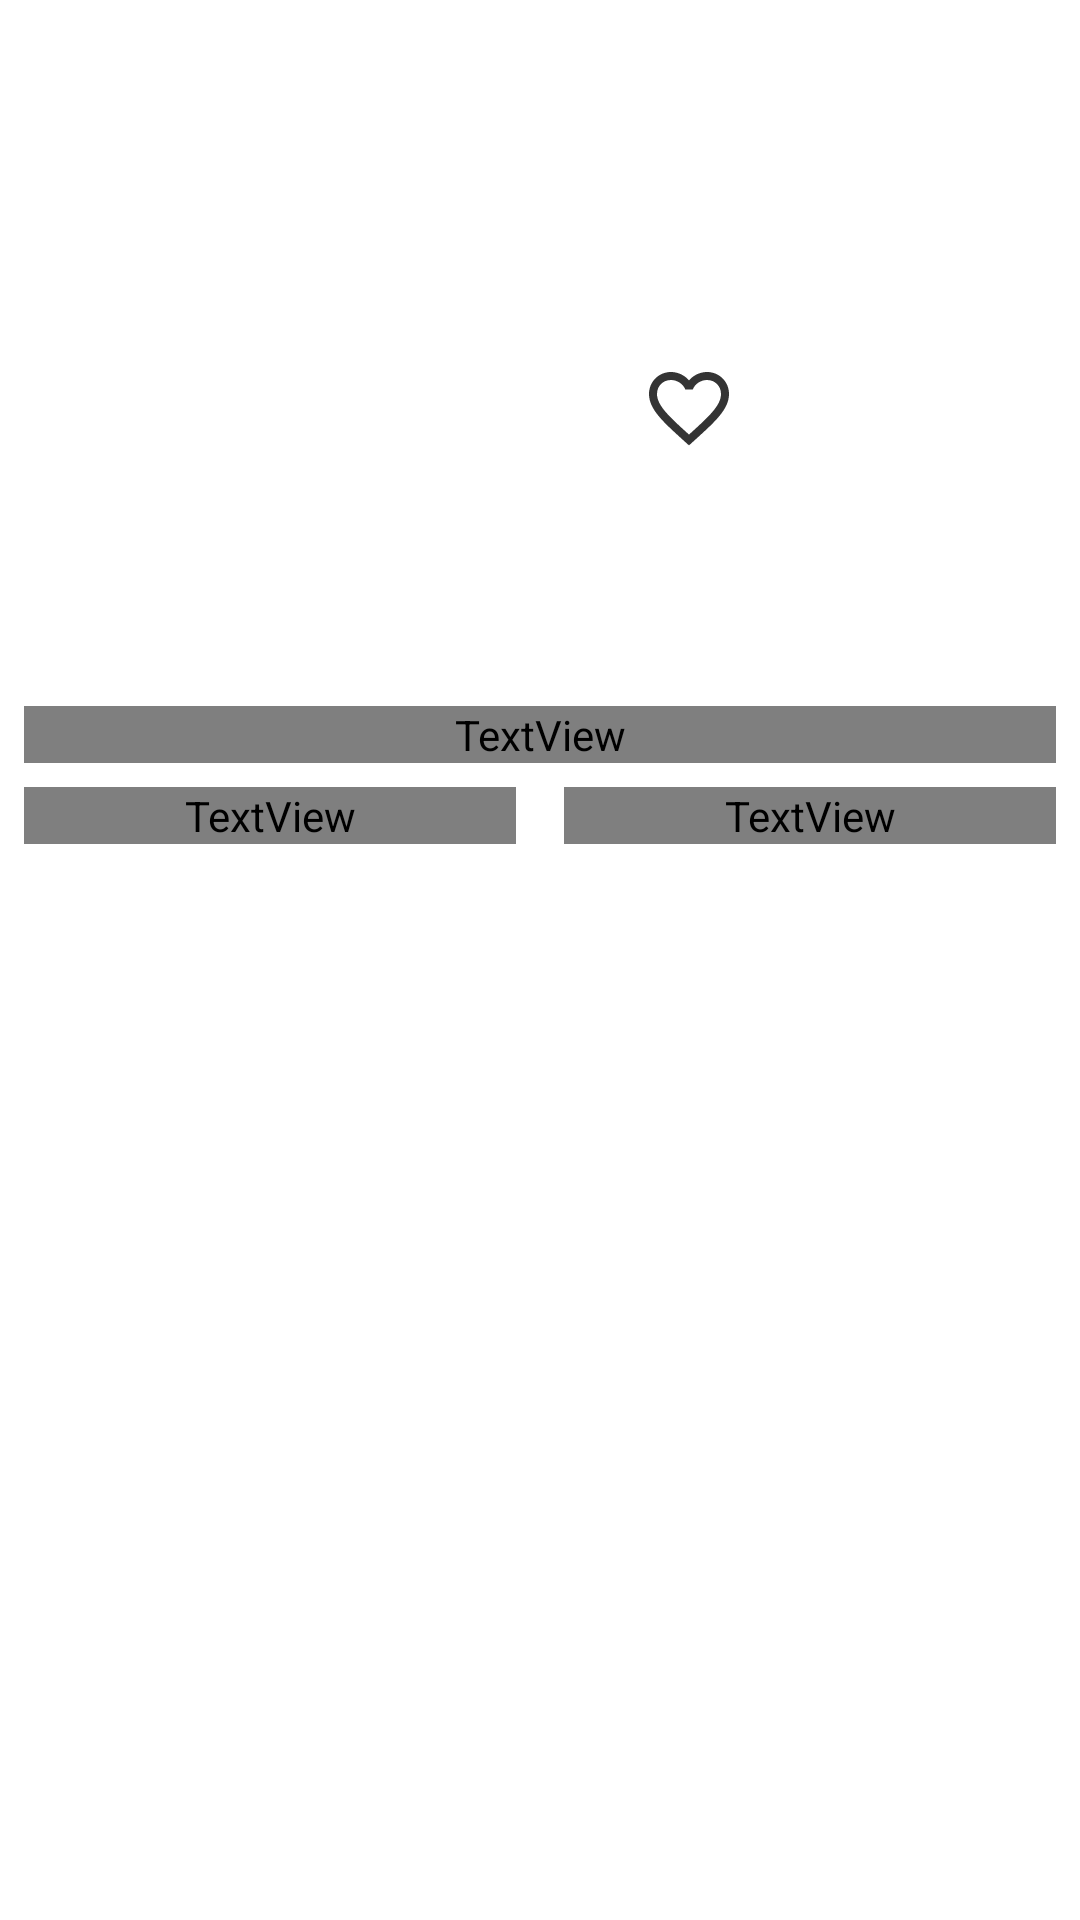

Icon bounding boxes for this 1080*1920 phone screenshot, format (x1, y1, x2, y2):
Save Favorite: (649, 372, 729, 445)
